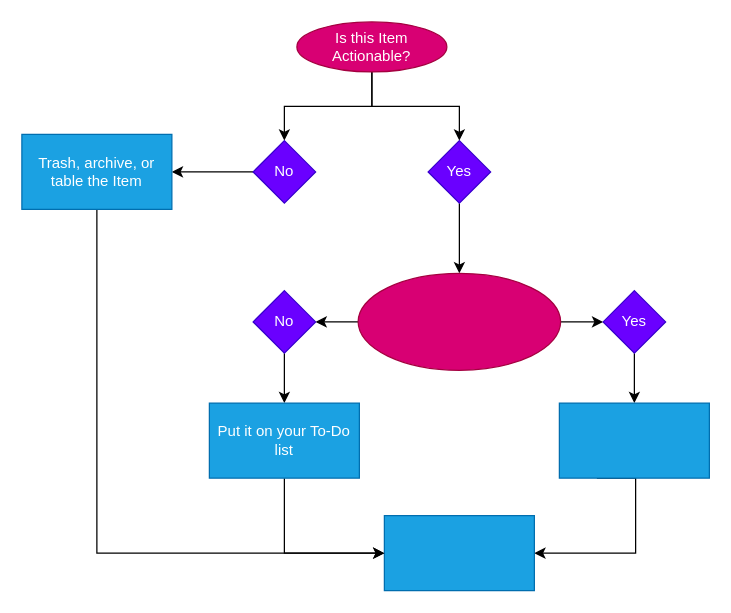
Some shapes in this 731 by 613 pixel diagram are drawn without their labels. The centre of each missing label's shape, as x and y in pixels:
Does this and all Items in my Mental Inbox take longer than 30 seconds?: (x=459, y=321)
Get back to your Original Work: (x=458, y=552)
Pop everything off your Mental Inbox and Do it: (x=633, y=440)
